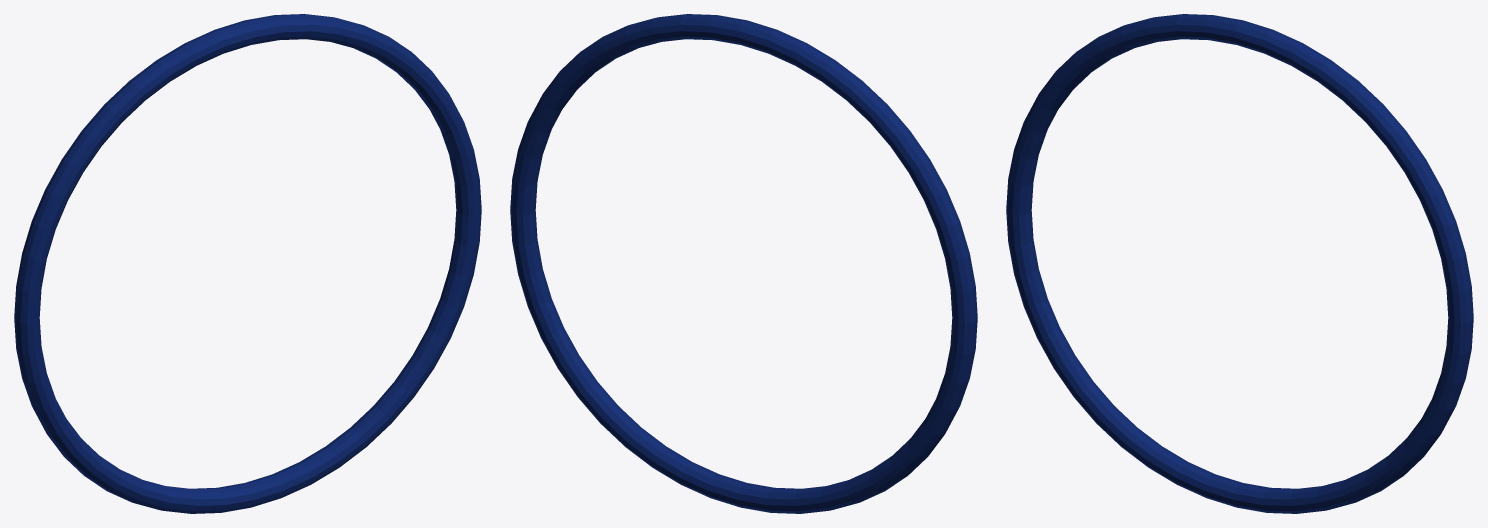
The model's file is ring_collision_allchunks.OBJ.
The picture shows the model from 3 angles, left to right: view 1: azimuth 30°, elevation 25°; view 2: azimuth 150°, elevation 25°; view 3: azimuth 330°, elevation 25°; orthographic projection.
Visible parts, largest first — view 1: ring_collision_allchunks; view 2: ring_collision_allchunks; view 3: ring_collision_allchunks.
Part boxes in pixels (x1,y1,x2,y2): ring_collision_allchunks: (14, 14, 481, 513); ring_collision_allchunks: (510, 14, 977, 513); ring_collision_allchunks: (1006, 14, 1473, 513).
Size of the model in its own units: 0.0484 by 0.0484 by 0.00231.
